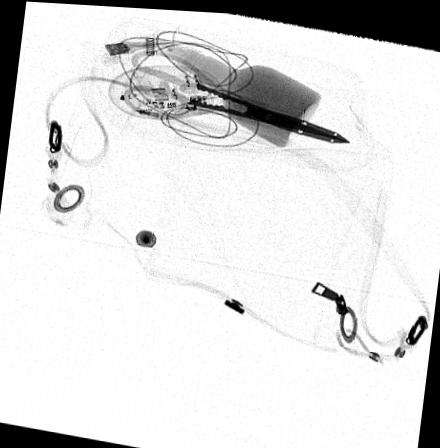Scissors: (121, 45, 351, 144)
